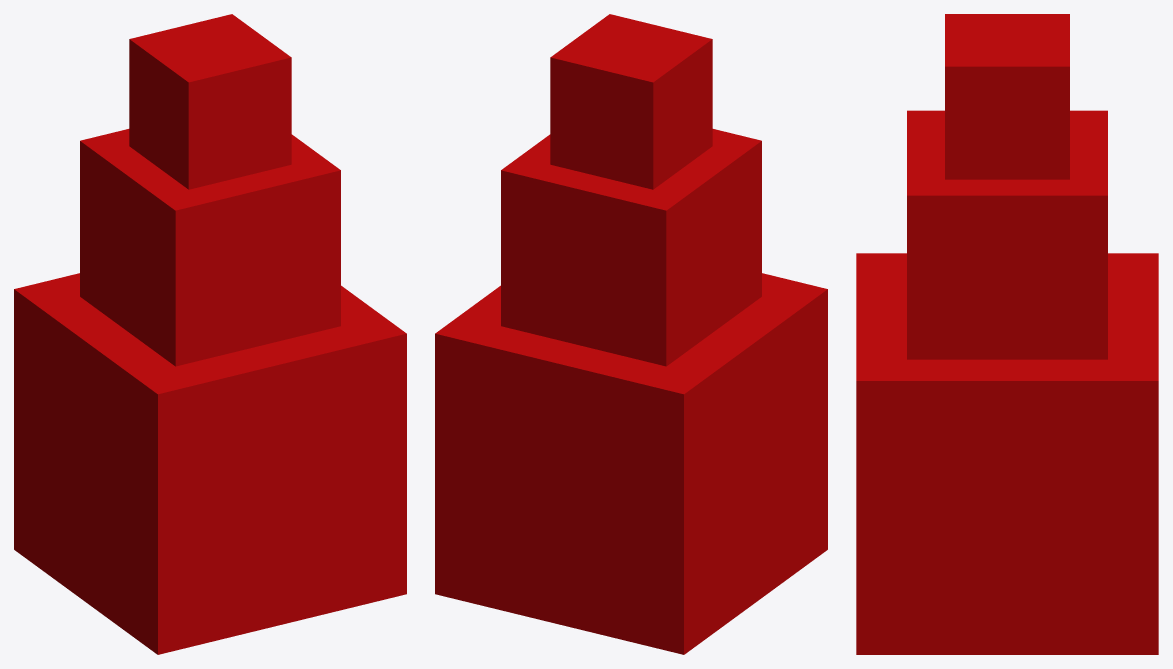
Rendered from fpsmodeltry2.obj.
3 renders of one model, left to right at view 1: azimuth 30°, elevation 25°; view 2: azimuth 150°, elevation 25°; view 3: azimuth 270°, elevation 25°, orthographic. The views are drawn at different scales.
Visible parts, largest first — view 1: Cube; view 2: Cube; view 3: Cube.
Boxes of the visible parts, <box> form: Cube: <box>14,14,406,654</box>; Cube: <box>435,14,827,654</box>; Cube: <box>856,14,1158,654</box>.
Size of the model in its own units: 2 by 4.02 by 2.
